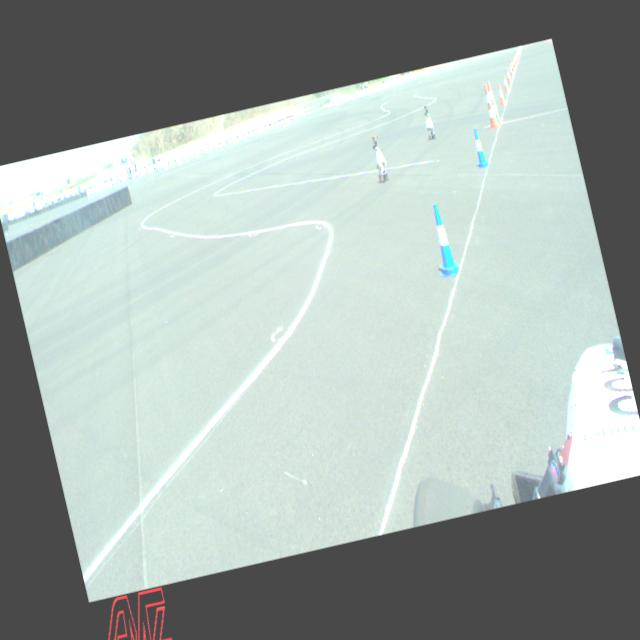blue_cone: (424, 200, 461, 278), (468, 126, 488, 168), (490, 98, 500, 124)
large_orange_cone: (480, 83, 500, 128), (486, 80, 501, 121)
orange_cone: (496, 82, 506, 104), (502, 75, 509, 92), (506, 68, 512, 82), (508, 63, 513, 75), (510, 60, 514, 71), (512, 57, 516, 66), (514, 56, 518, 64), (514, 53, 518, 61)
